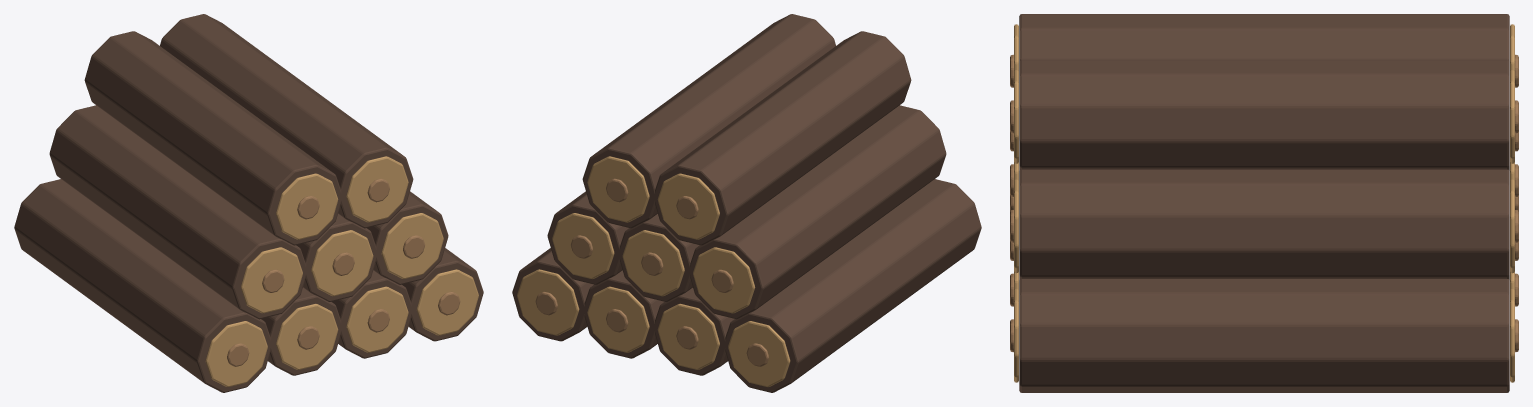
Rendered from prop_log_stack__attachments.glb.
3 renders of one model, left to right at view 1: azimuth 30°, elevation 25°; view 2: azimuth 150°, elevation 25°; view 3: azimuth 270°, elevation 25°, orthographic. The views are drawn at different scales.
Parts seen in each view (by area): view 1: prop_log_stack__attachments__mesh_00; view 2: prop_log_stack__attachments__mesh_00; view 3: prop_log_stack__attachments__mesh_00.
Boxes of the visible parts, <box> form: prop_log_stack__attachments__mesh_00: <box>14,14,483,392</box>; prop_log_stack__attachments__mesh_00: <box>512,14,981,392</box>; prop_log_stack__attachments__mesh_00: <box>1010,14,1518,392</box>.
Bounding box in the file's own units: 1.06 × 0.7263 × 1.22.
